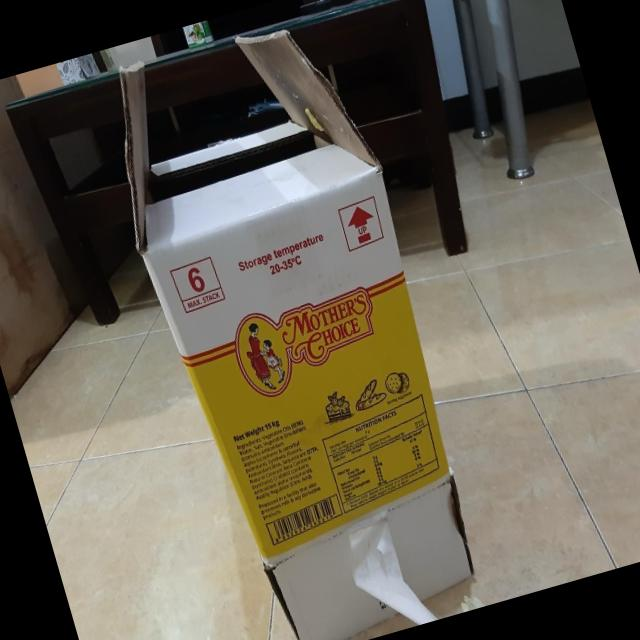Kardus: (85, 4, 506, 640), (236, 320, 276, 394), (348, 376, 388, 412), (259, 335, 287, 384), (320, 388, 352, 422), (382, 368, 412, 398)
